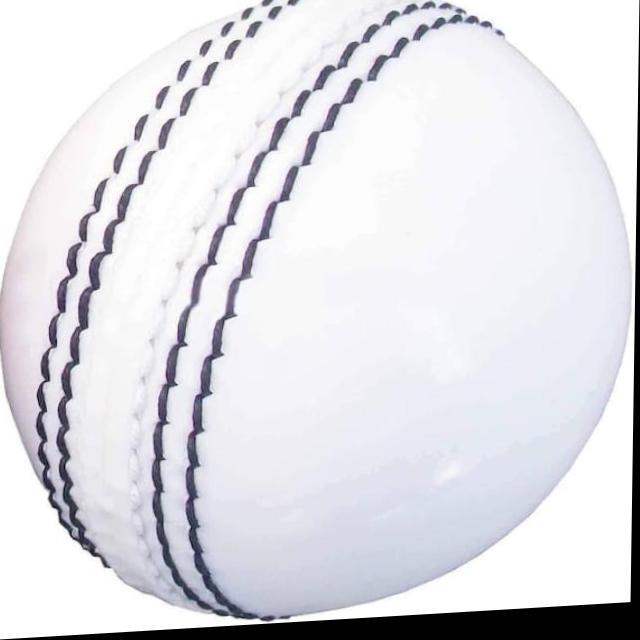cricket ball: (0, 0, 634, 624)
